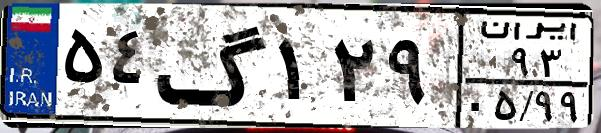0: (470, 70, 495, 125)
1: (270, 28, 330, 110)
2: (330, 28, 385, 110)
3: (537, 27, 568, 80)
4: (110, 28, 156, 98)
5: (57, 26, 110, 100), (495, 70, 520, 125)
9: (385, 28, 445, 110), (560, 70, 590, 125), (508, 27, 537, 80), (535, 70, 560, 125)
گ: (156, 12, 270, 120)
